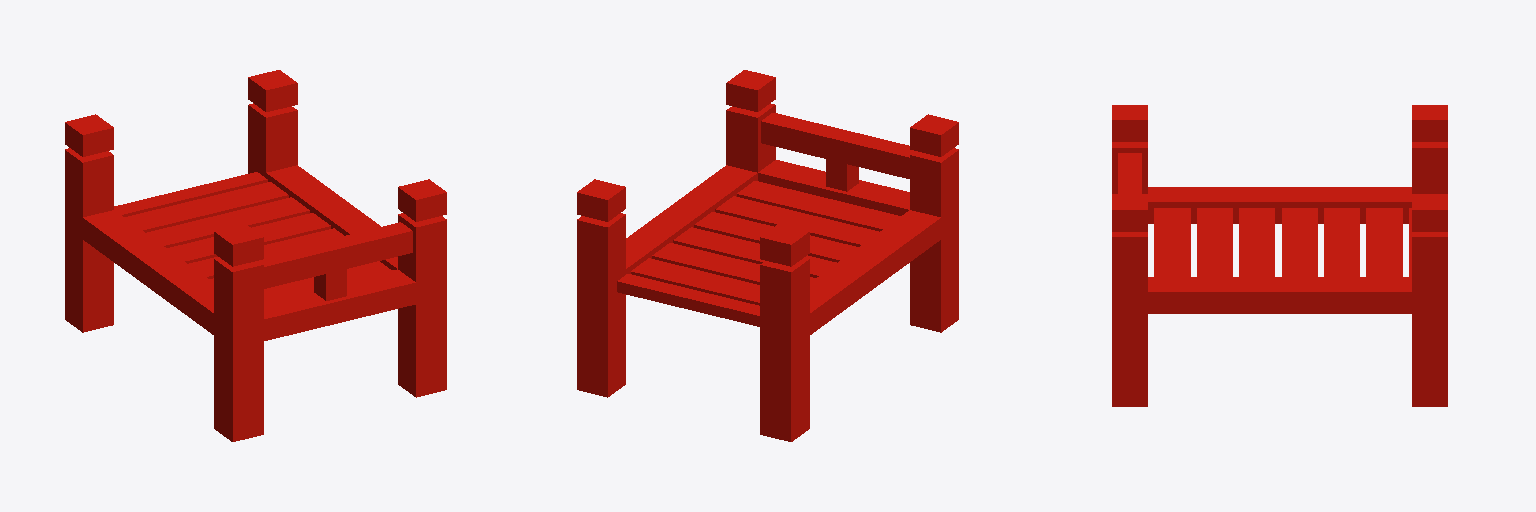
The picture shows the model from 3 angles: view 1: azimuth 30°, elevation 25°; view 2: azimuth 150°, elevation 25°; view 3: azimuth 270°, elevation 25°; orthographic projection.
Visible parts, largest first — view 1: cube; view 2: cube; view 3: cube.
Part boxes in pixels (left/top/right/bottom): cube: left=65, top=70, right=446, bottom=441; cube: left=577, top=70, right=958, bottom=441; cube: left=1112, top=105, right=1447, bottom=406.
Bounding box in the file's own units: 0.6406 × 0.5625 × 0.8672.
1 materials, 1 textured.